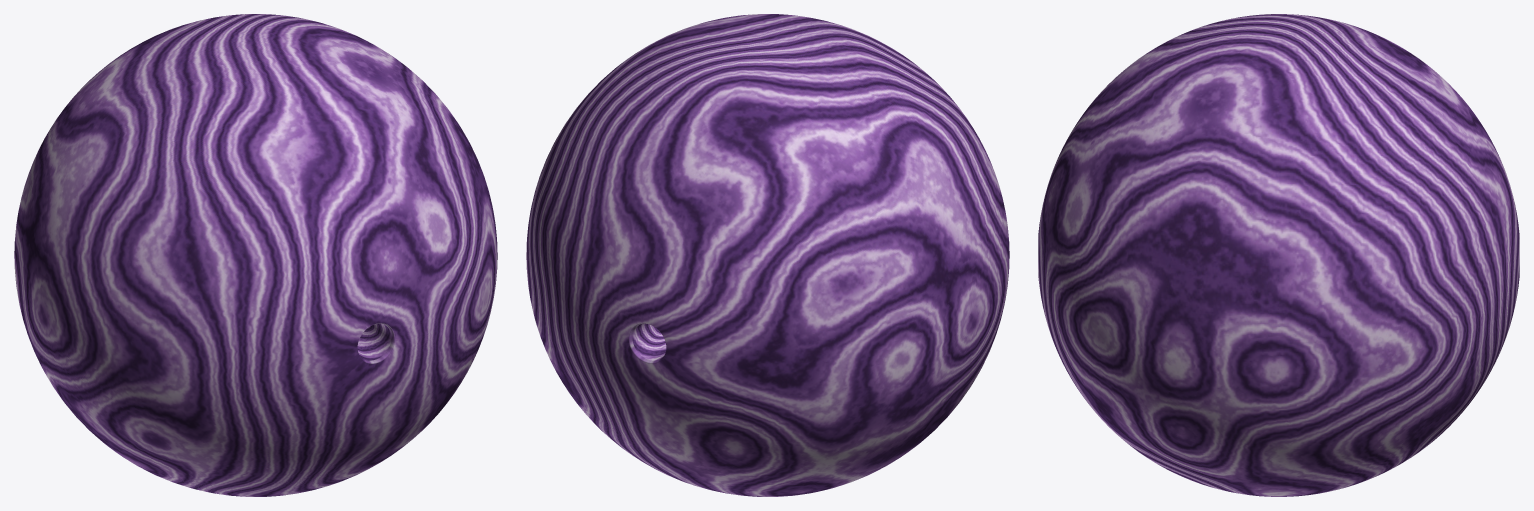
File: charoite-12mm.glb
3 views of the same model, side by side, from view 1: azimuth 30°, elevation 25°; view 2: azimuth 150°, elevation 25°; view 3: azimuth 270°, elevation 25° (orthographic).
Visible parts, largest first — view 1: charoite.001; view 2: charoite.001; view 3: charoite.001.
Part boxes in pixels (x1,y1,x2,y2): charoite.001: [14, 14, 497, 496]; charoite.001: [526, 14, 1009, 496]; charoite.001: [1038, 14, 1519, 496].
Bounding box in the file's own units: 0.012 × 0.012 × 0.012.
Materials: 1 (1 with a texture image).
